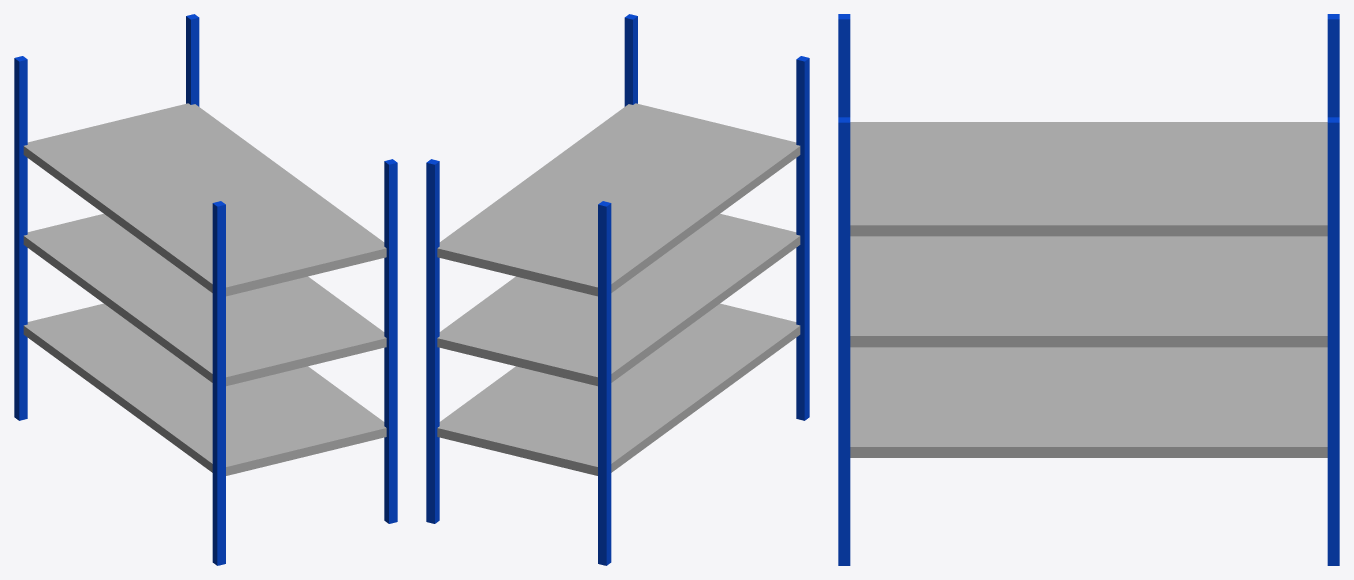
Rendered from balda.fbx.
3 renders of one model, left to right at view 1: azimuth 30°, elevation 25°; view 2: azimuth 150°, elevation 25°; view 3: azimuth 270°, elevation 25°, orthographic. The views are drawn at different scales.
Visible parts, largest first — view 1: Cube.007; view 2: Cube.007; view 3: Cube.007.
Part boxes in pixels (box(x1,y1,x2,y2)): Cube.007: box(14, 14, 397, 565); Cube.007: box(426, 14, 809, 565); Cube.007: box(838, 14, 1339, 565).
Bounding box in the file's own units: 1050 × 2000 × 2050.
